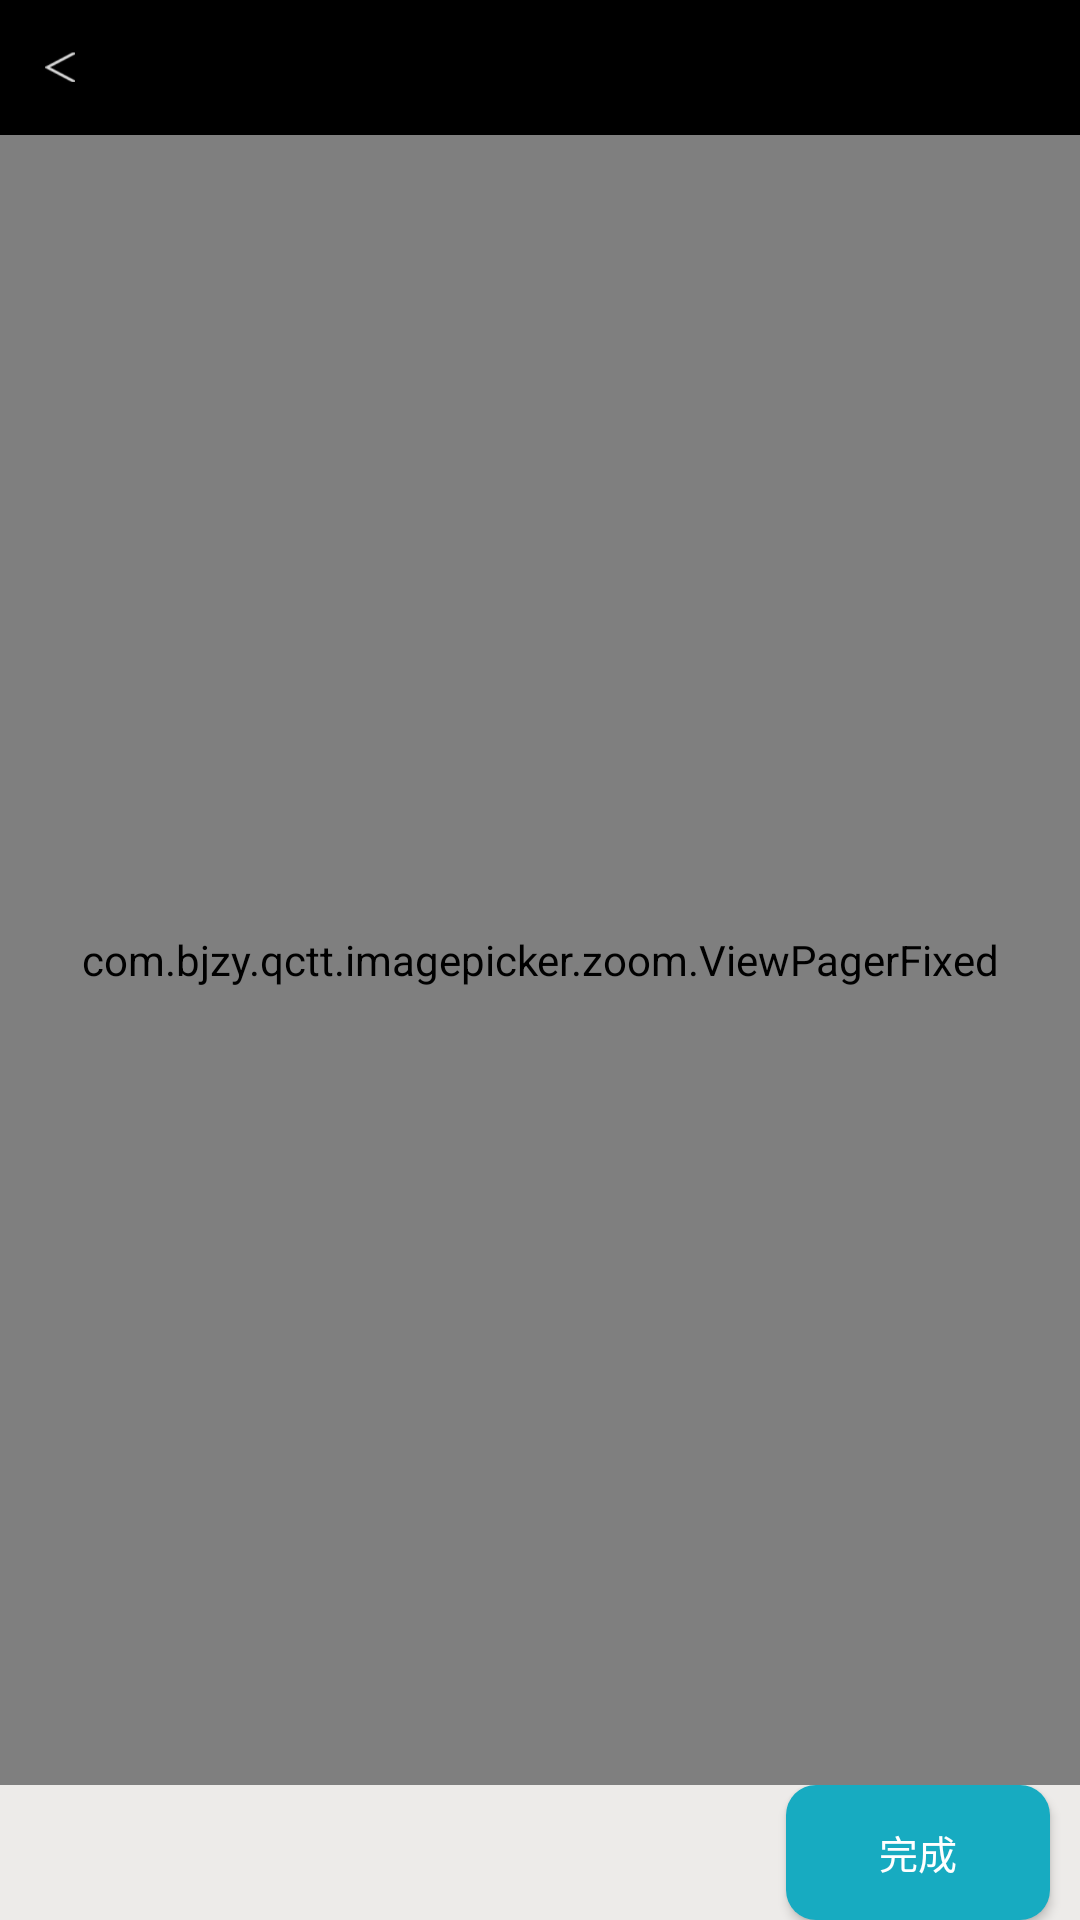

Screen size 1080x1920. Icon name, then its box in pixels as [left=x1, top=y1, right=x2, bottom=y2]:
houtui: [left=45, top=52, right=75, bottom=82]
